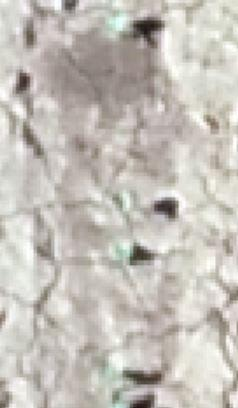cotton: (106, 13, 123, 30), (117, 243, 132, 260), (111, 392, 125, 408), (124, 195, 135, 214)
